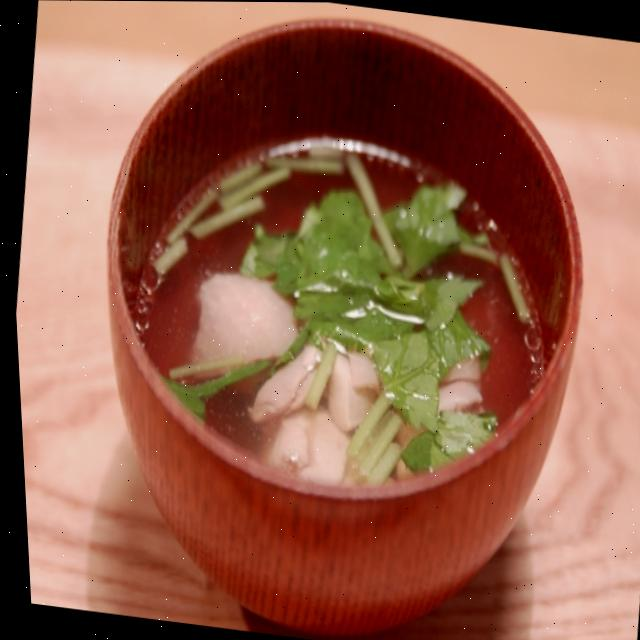汤锅炖物: (32, 0, 620, 625)
